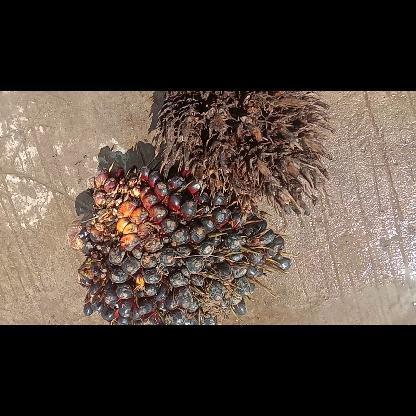Janjang kosong: (154, 91, 334, 215)
TBS mentah: (67, 160, 297, 324)
